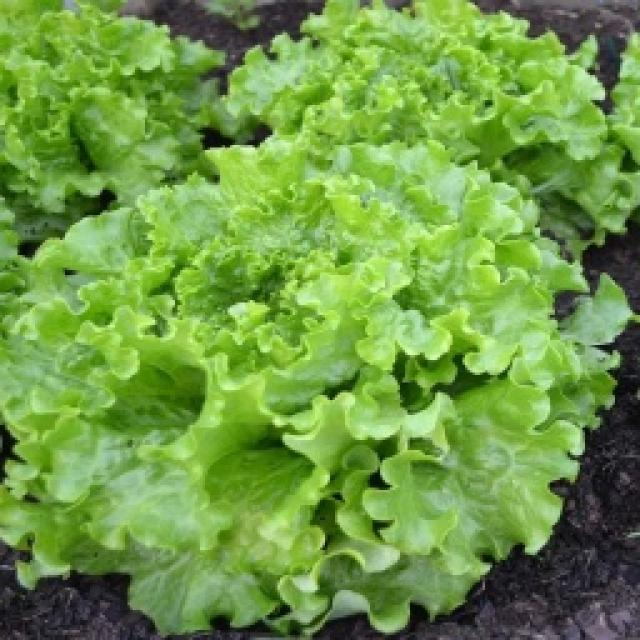Lettuce: (42, 99, 636, 557)
